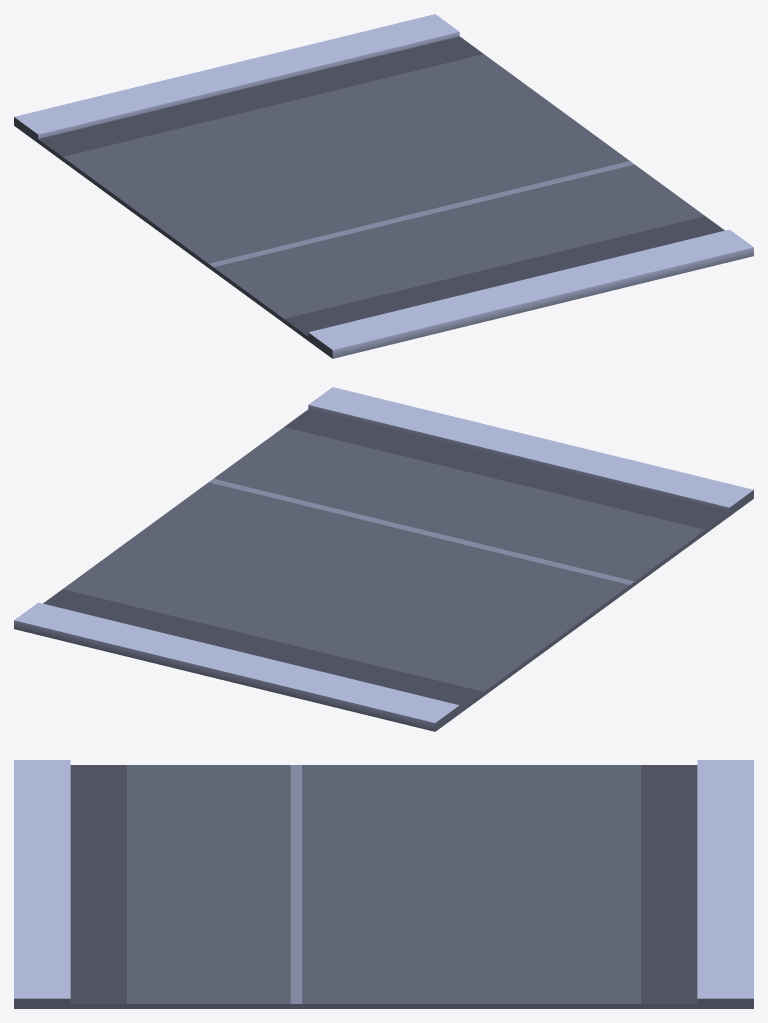
The model's file is road-side.glb.
3 renders of one model, top to bottom at view 1: azimuth 30°, elevation 25°; view 2: azimuth 150°, elevation 25°; view 3: azimuth 270°, elevation 25°, orthographic. The views are drawn at different scales.
Visible parts, largest first — view 1: road-side; view 2: road-side; view 3: road-side.
Part boxes in pixels (<box>): road-side: <box>14,14,753,358</box>; road-side: <box>14,387,753,731</box>; road-side: <box>14,760,753,1008</box>.
Bounding box in the file's own units: 1 × 0.02 × 1.31.
1 material, 1 textured.
